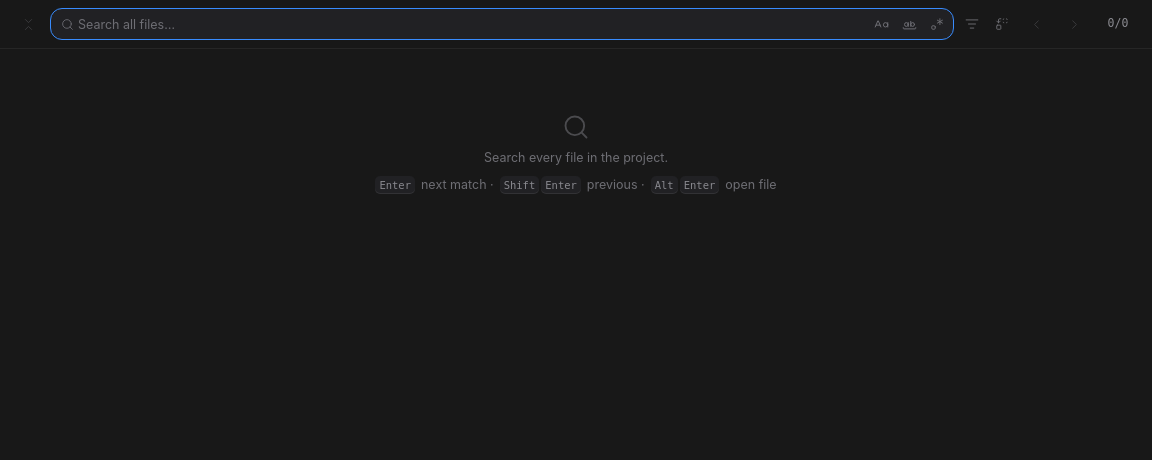
Search tab (excerpts) › shows context around a match, expands it and steps through matches
Type "needle" into the field with test id "search-input". click: (472,24)
box: left=78, top=9, right=865, bottom=39
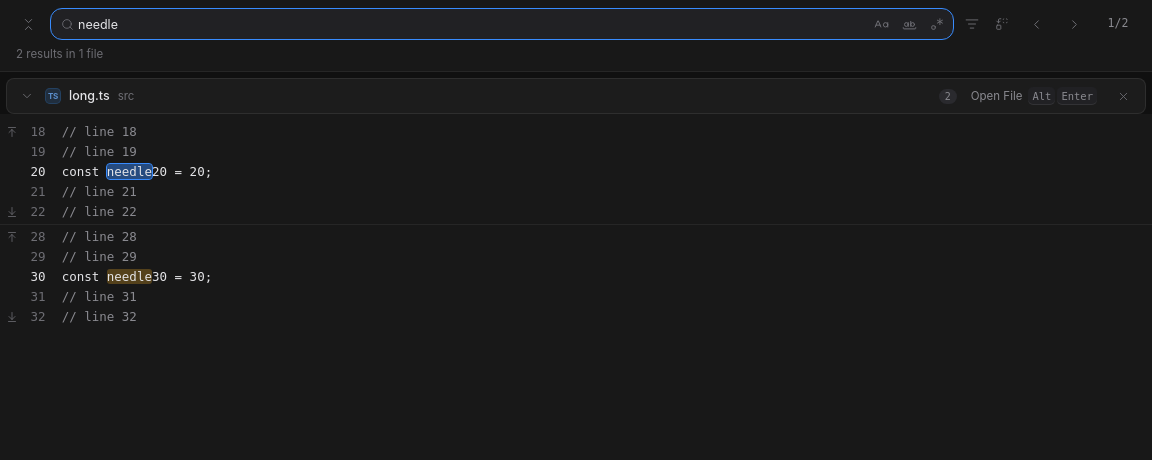
Expected: the text "// line 17" is not shown
Now the text with test id "search-counter" reads "1/2", box left=1108, top=16, right=1128, bottom=30
Now the text "// line 18" is shown, box left=62, top=124, right=137, bottom=139
Click the button named "Expand up" in the row of "// line 18". click: (12,132)
box: left=4, top=122, right=20, bottom=142
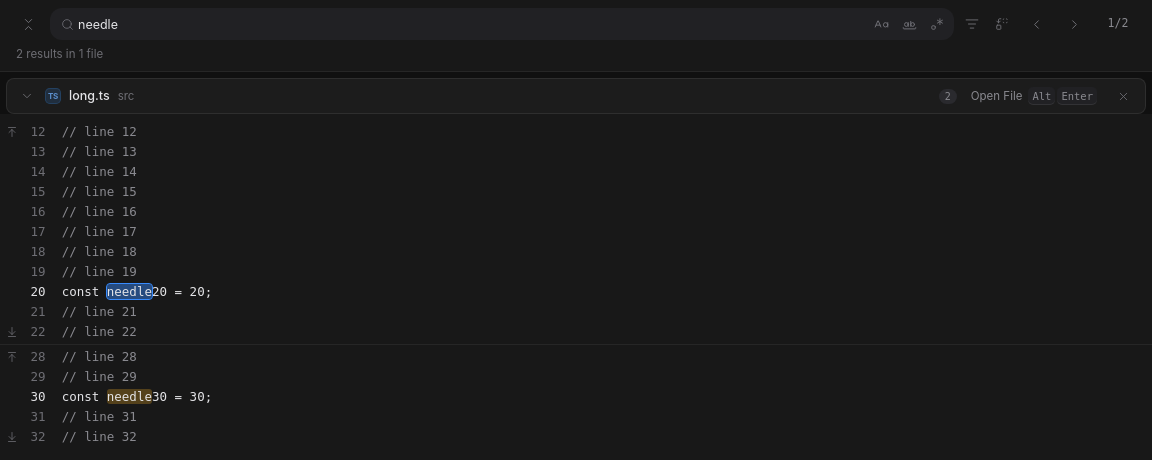
Now the text "// line 12" is shown, box left=62, top=124, right=137, bottom=139
Click the field with test id "search-input". click: (472,24)
box: left=78, top=9, right=865, bottom=39
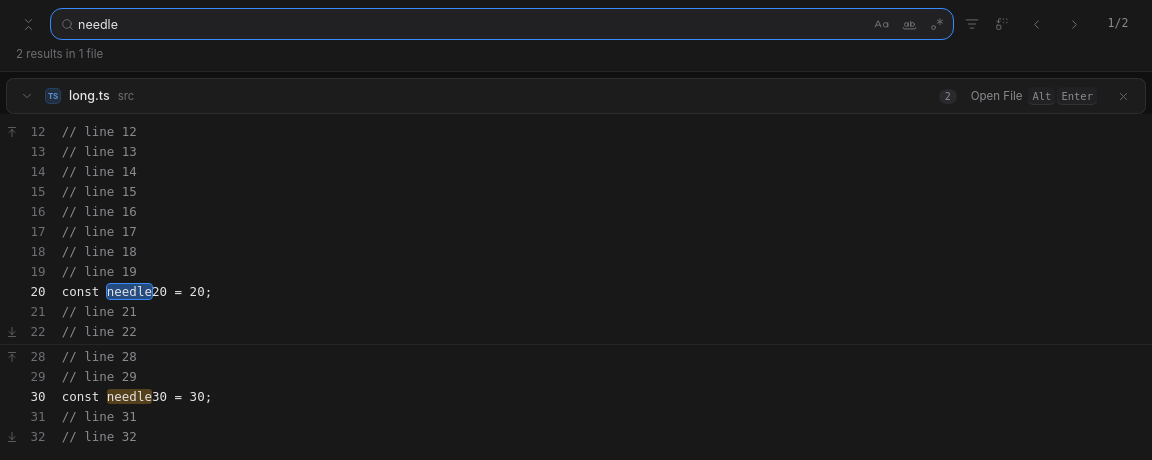
Press Enter
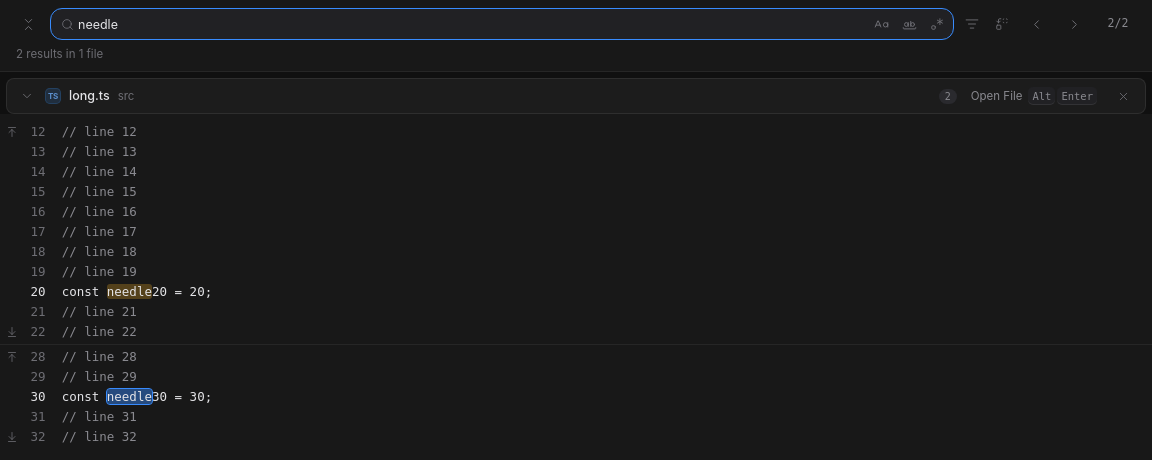
Now the text with test id "search-counter" reads "2/2", box left=1108, top=16, right=1128, bottom=30
Type keys "{Shift>}{Enter}{/Shift}"
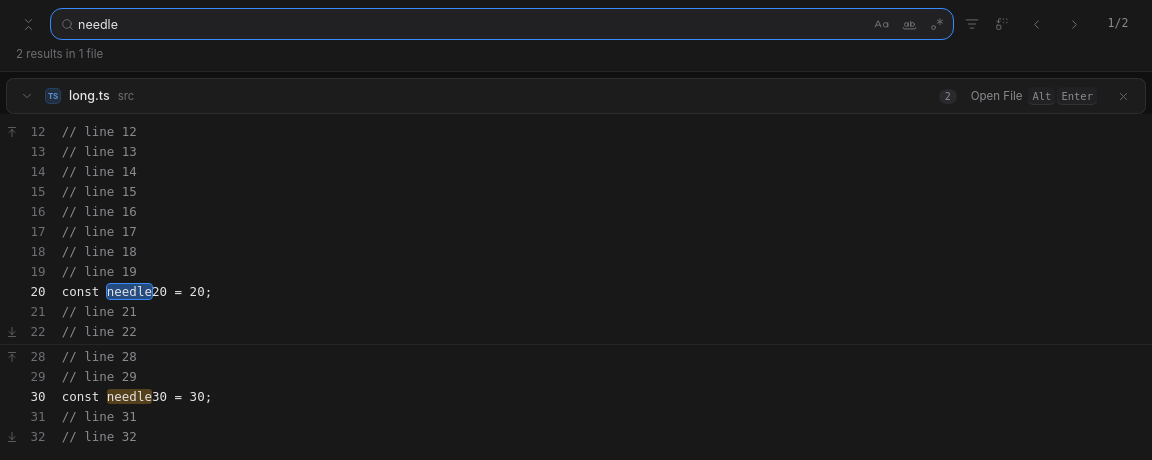
Now the text "needle" below "// line 19" is shown, box left=107, top=284, right=152, bottom=299
Now the text with test id "search-counter" reads "1/2", box left=1108, top=16, right=1128, bottom=30
